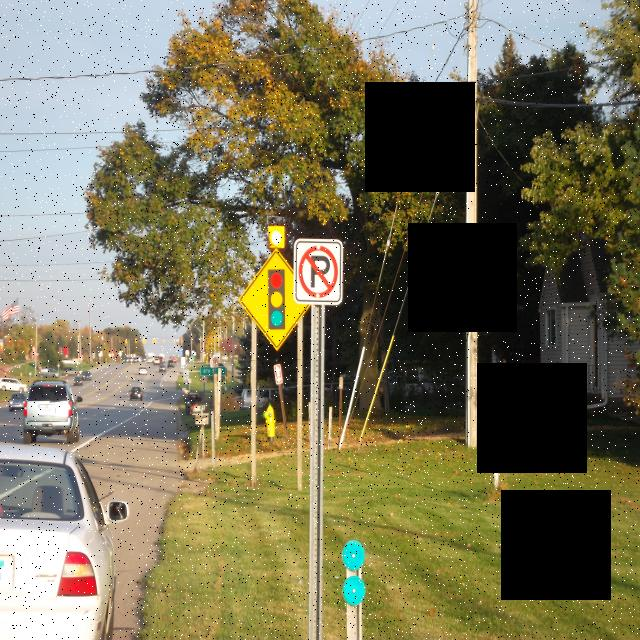regulatory: (296, 241, 342, 308)
warning: (237, 252, 307, 348)
